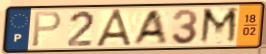2: (66, 10, 97, 48)
3: (170, 7, 201, 46)
A: (94, 8, 137, 48), (129, 8, 169, 46)
M: (197, 6, 240, 46)
P: (30, 10, 63, 48)
